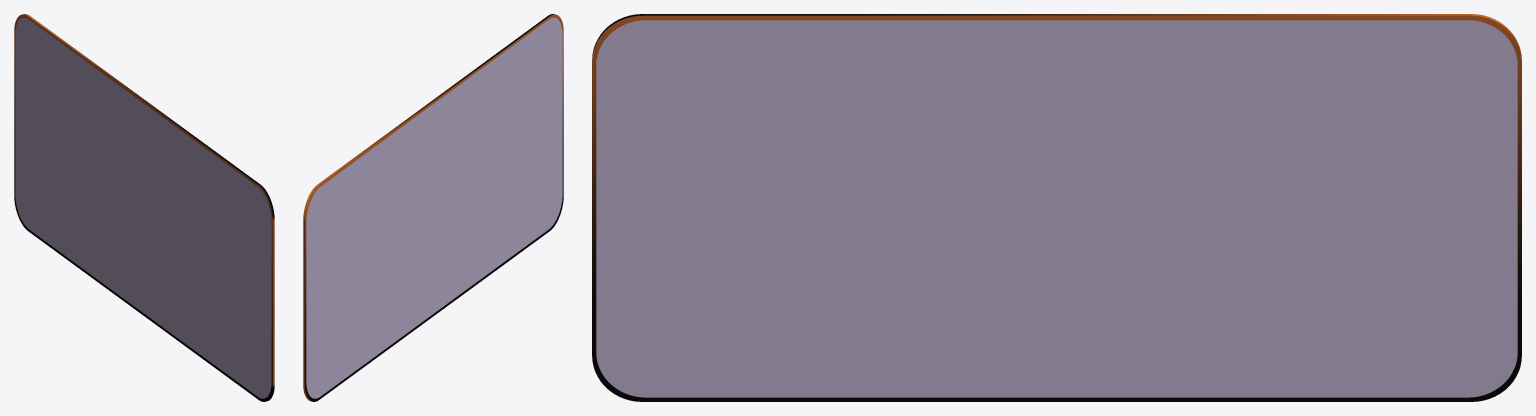
Rendered from panel.glb.
The picture shows the model from 3 angles, left to right: view 1: azimuth 30°, elevation 25°; view 2: azimuth 150°, elevation 25°; view 3: azimuth 270°, elevation 25°; orthographic projection. The views are drawn at different scales.
Parts seen in each view (by area): view 1: Plane, Plane.001; view 2: Plane, Plane.001; view 3: Plane, Plane.001.
Part boxes in pixels (x1=…): Plane: x1=15, y1=17, x2=271, y2=398; Plane.001: x1=14, y1=14, x2=274, y2=401; Plane: x1=306, y1=17, x2=562, y2=398; Plane.001: x1=303, y1=14, x2=563, y2=401; Plane: x1=596, y1=20, x2=1517, y2=397; Plane.001: x1=592, y1=14, x2=1521, y2=401.
Bounding box in the file's own units: 0.0205 × 2.05 × 4.47.
2 materials, 1 textured.
